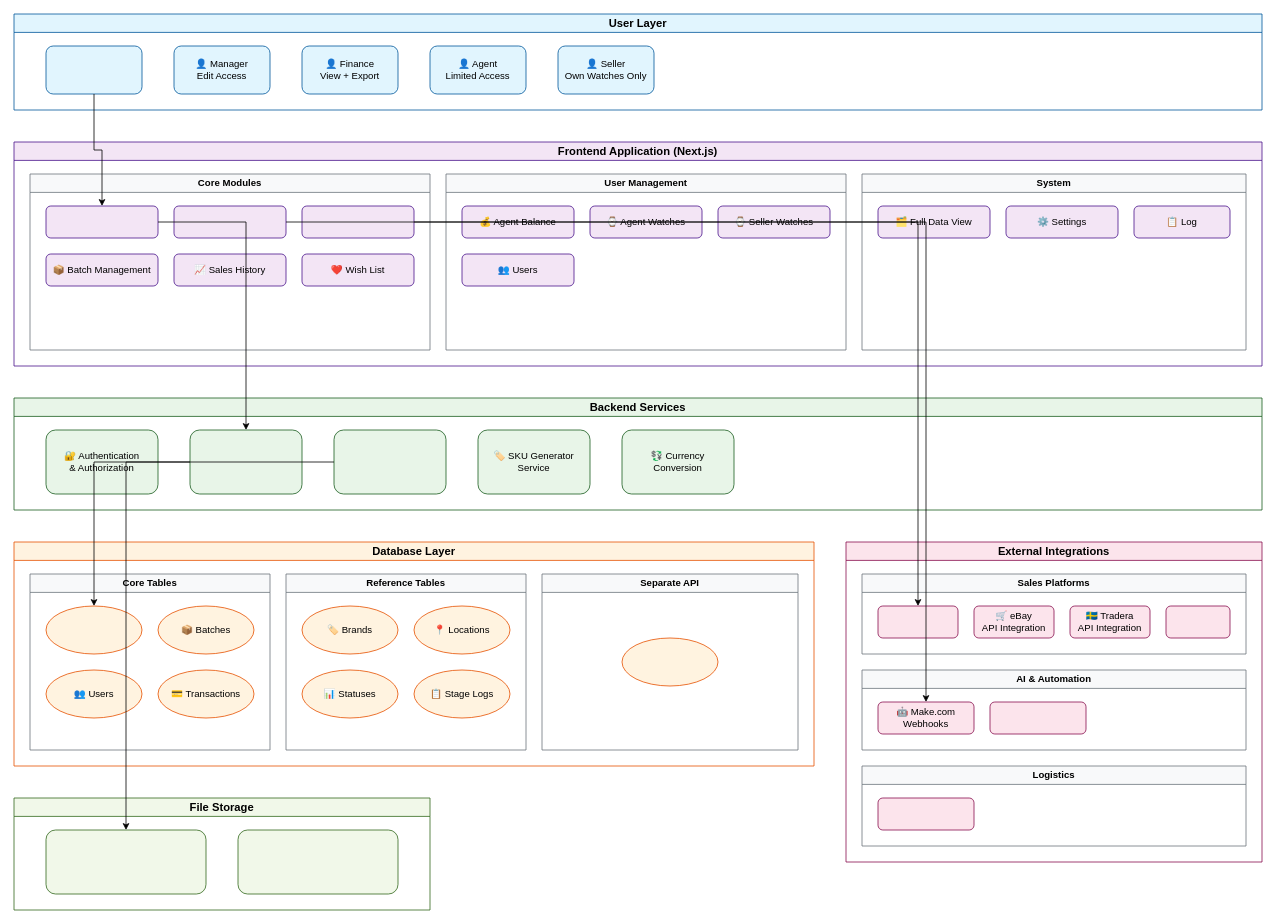
Image size: 1276x924. Some labels were removed from this diagram. The shapes that lost their labels are listed below. From the top down, each one's centre as x and y in pixels, then its label:
pixel 93 69: 👤 Admin Full Access
pixel 101 221: 📊 Dashboard
pixel 229 221: ⌚ Watch Management
pixel 357 221: 🌐 Multi-platform Sales
pixel 245 461: 🚪 API Gateway
pixel 389 461: 📁 File Management Service
pixel 93 629: ⌚ Watches Core Dataset
pixel 917 621: 🏺 Catawiki CSV Export
pixel 1197 621: ⏰ Chrono24 Future
pixel 669 661: ❤️ Wish List Separate API
pixel 1037 717: 🧠 AI Description Generation
pixel 925 813: 📦 DHL Tracking API
pixel 125 861: 🖼️ Watch Images WatchImages/SKU/001.jpg Public URLs
pixel 317 861: 🖼️ Thumbnails 256x256px _s.jpg suffix
